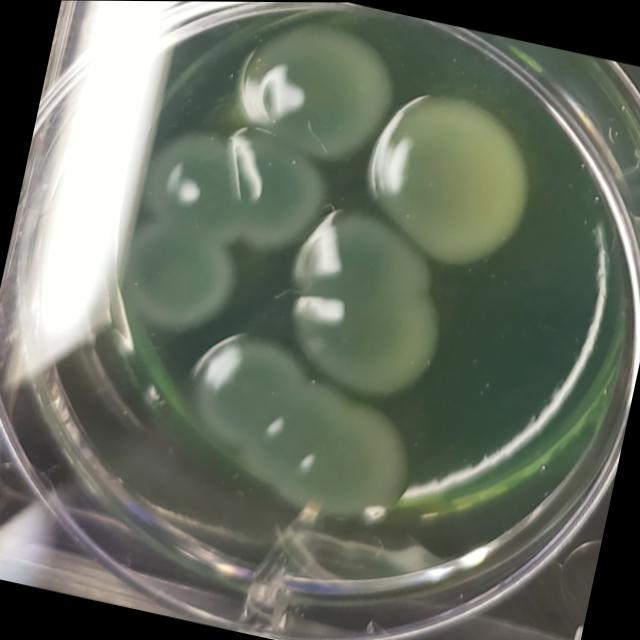vibrio: (154, 318, 436, 538), (268, 189, 473, 416), (345, 75, 550, 284), (130, 112, 337, 267), (230, 2, 412, 165), (110, 213, 248, 341)
